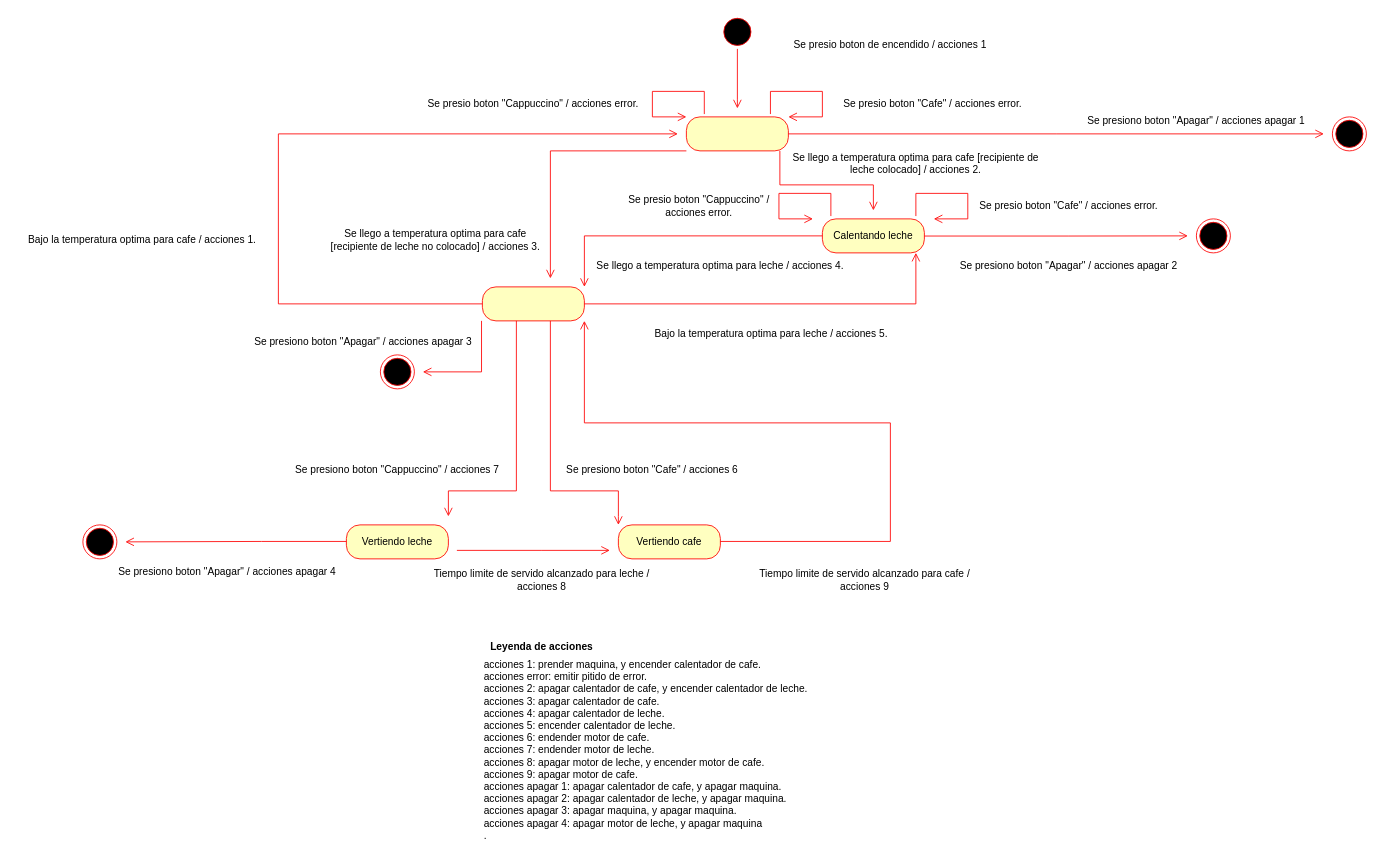
Image size: 1381x863. Some labels were removed from this diagram. Each missing label, with the centre of its shape:
Calentando cafe: pixel 737 133
Esperando opcion: pixel 533 303
